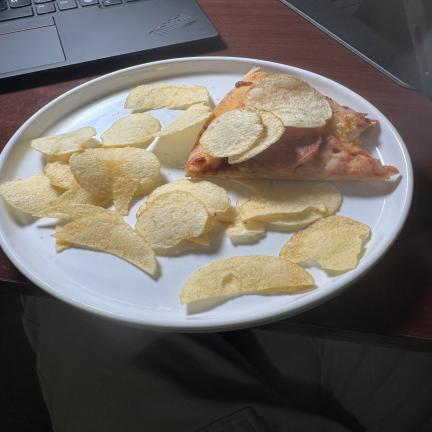chips: (180, 256, 314, 304), (53, 215, 156, 274), (70, 148, 160, 214), (232, 179, 341, 225), (280, 216, 370, 270), (244, 75, 332, 127), (135, 191, 208, 248), (152, 104, 212, 166), (137, 179, 230, 217), (45, 154, 110, 205), (200, 109, 264, 158), (237, 190, 326, 224), (229, 111, 284, 163), (0, 173, 64, 214), (152, 122, 204, 167), (124, 84, 209, 110), (101, 113, 161, 147), (282, 181, 341, 214), (155, 103, 212, 136), (31, 127, 96, 154), (50, 179, 110, 206), (217, 207, 265, 237), (33, 204, 122, 220), (45, 154, 75, 189), (231, 178, 271, 192), (188, 233, 210, 245), (55, 239, 72, 252)
pizza: (186, 68, 398, 180)
plate: (0, 57, 412, 331)
